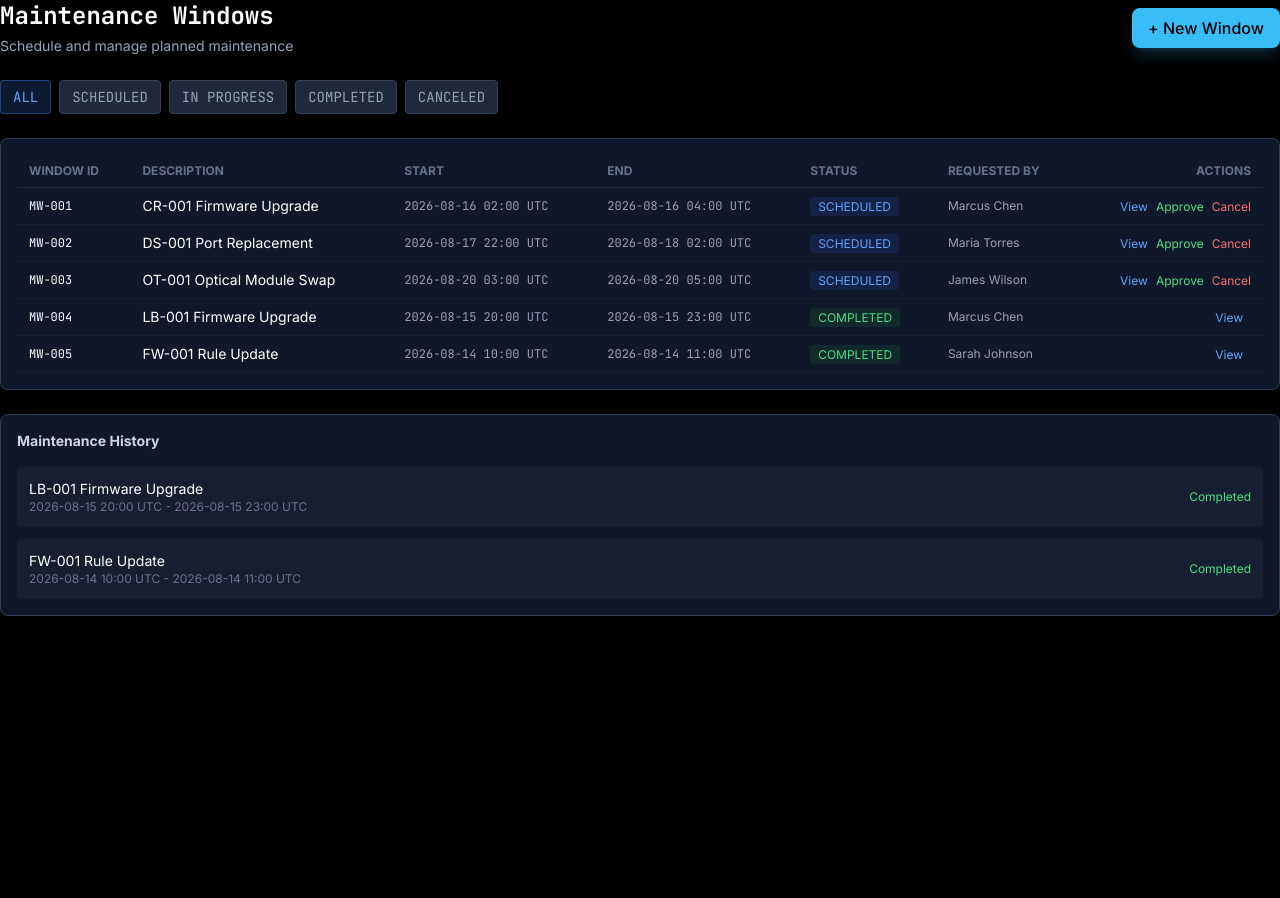
Test case: MaintenancePage › has a New Window button that toggles the create form
Expected: the text "Create Maintenance Window" is not shown
Click the button "+ New Window" at (1206, 28), box [1132, 8, 1279, 48]
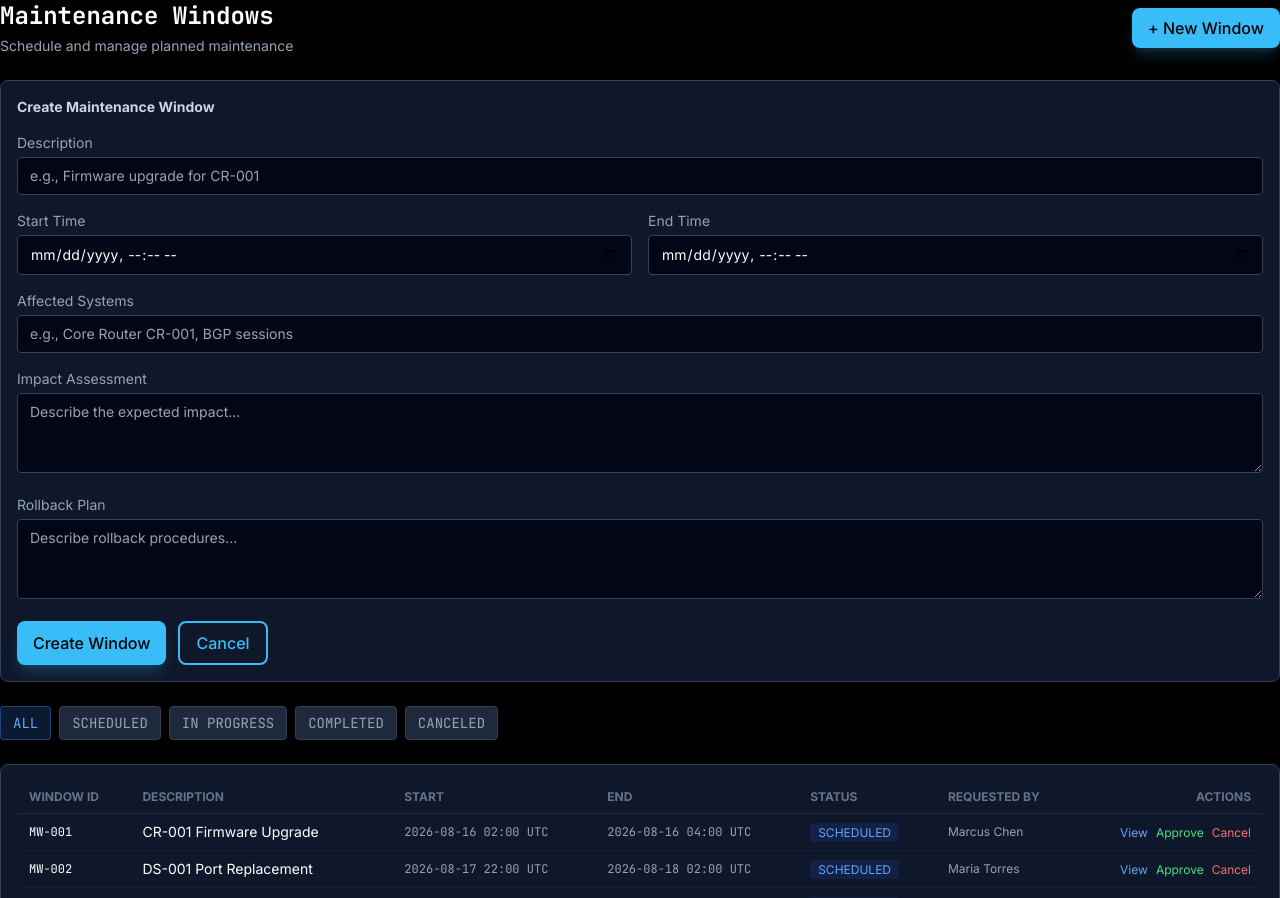
Now the heading "Create Maintenance Window" is shown, box [17, 98, 215, 115]
